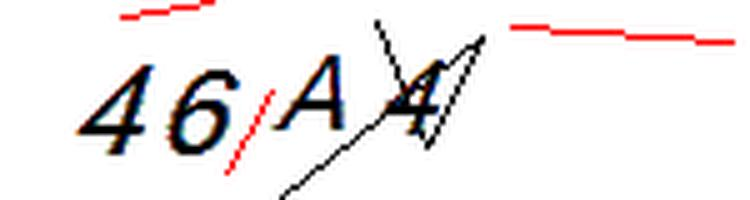4: (68, 58, 164, 163), (378, 53, 458, 143)
6: (162, 64, 247, 163)
A: (272, 49, 350, 137)
